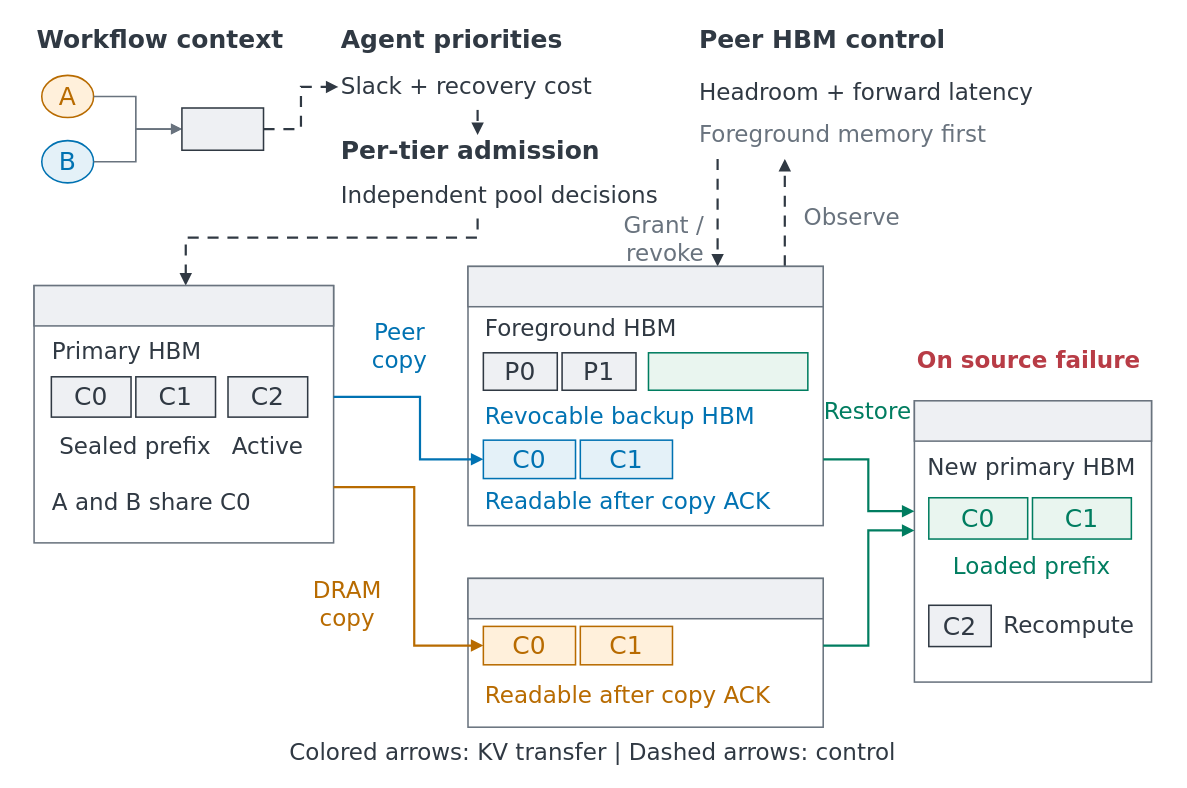
The diagram is 1187 pixels wide and 788 high, and some of its shapes have lost their labels. Here are the shapes that lost their labels. From the top down, the box of each, then its label:
(181, 107, 264, 151): Join
(33, 284, 334, 326): Source worker
(467, 265, 823, 307): Peer worker
(647, 352, 808, 391): Reserve
(913, 400, 1152, 441): Recovery worker
(467, 577, 823, 619): DRAM store
